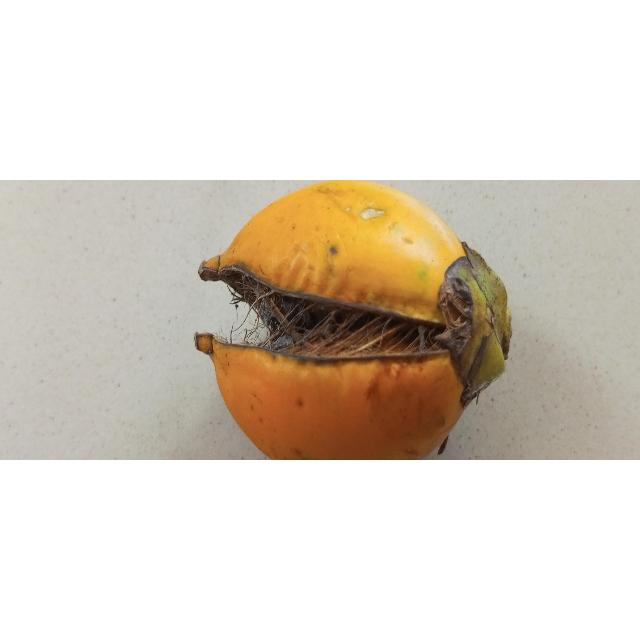damaged: (196, 180, 514, 461)
